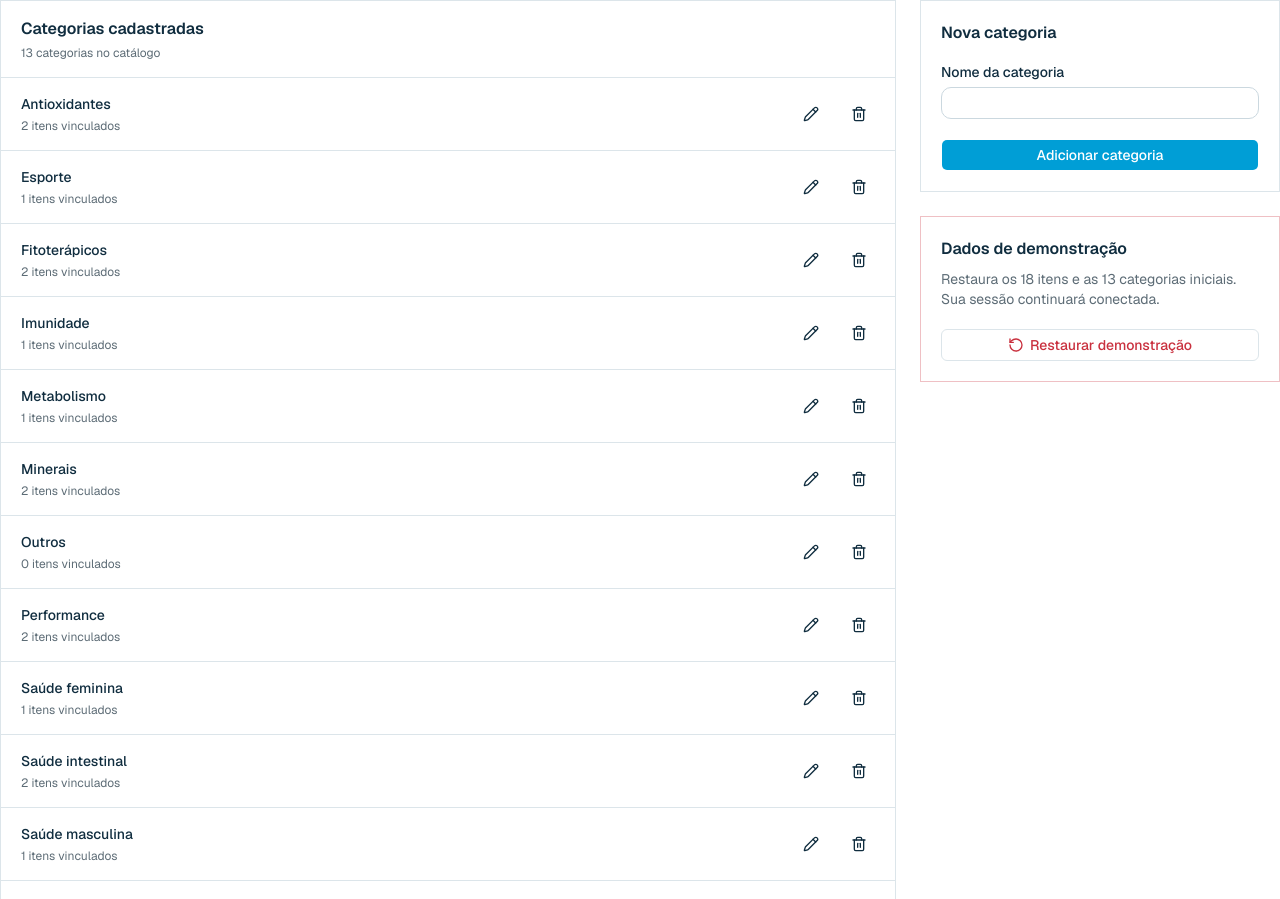
Test: CategoryAdminContent › creates a category and adds it to the list
The width and height of the screenshot is (1280, 899).
Expected: the text "Antioxidantes" is shown, top-left (21, 95), bottom-right (111, 113)
Type "Dermocosméticos" into the field labelled "Nome da categoria" at (1100, 103), box top-left (941, 87), bottom-right (1259, 119)
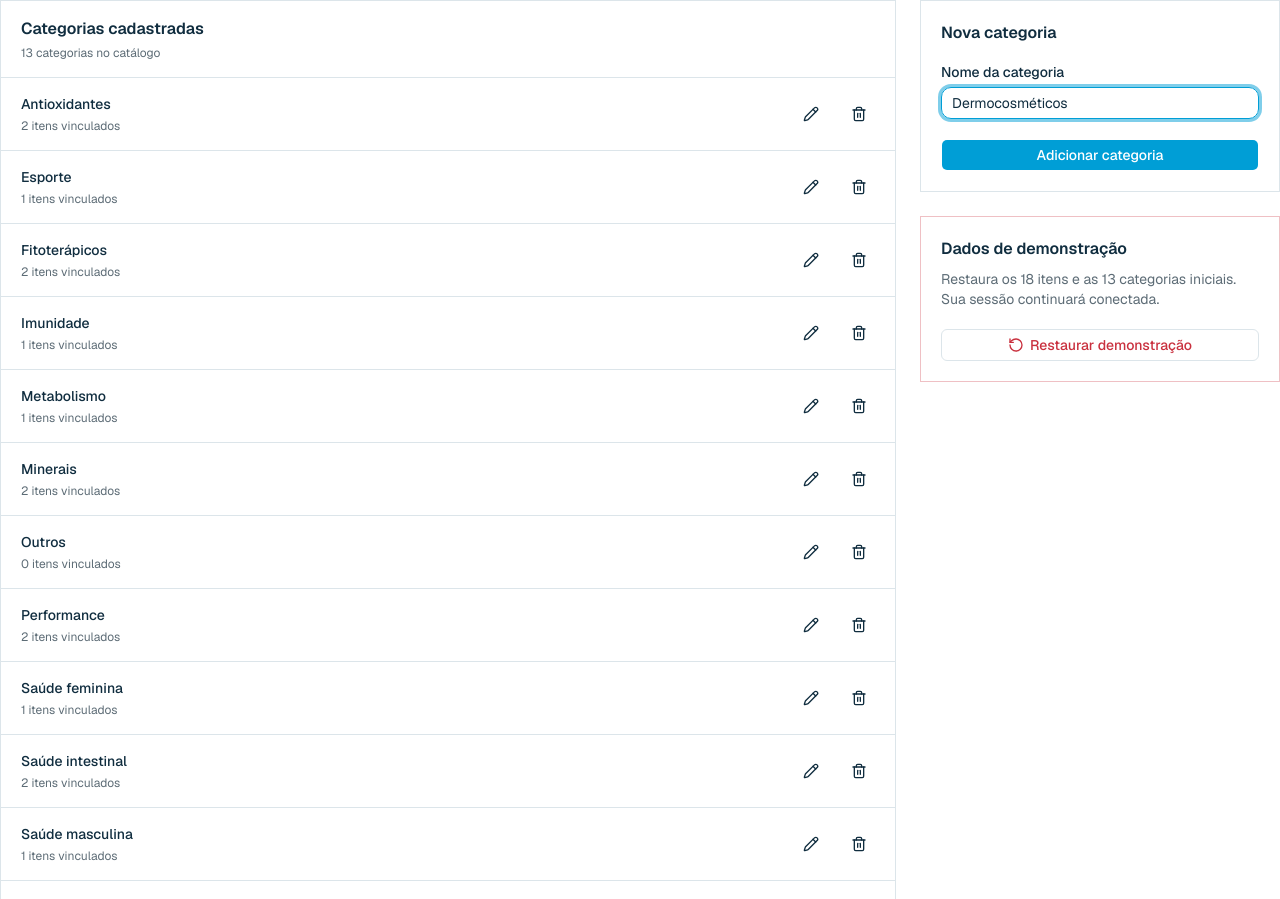
Click the button "Adicionar categoria" at (1100, 155), box top-left (941, 139), bottom-right (1259, 171)
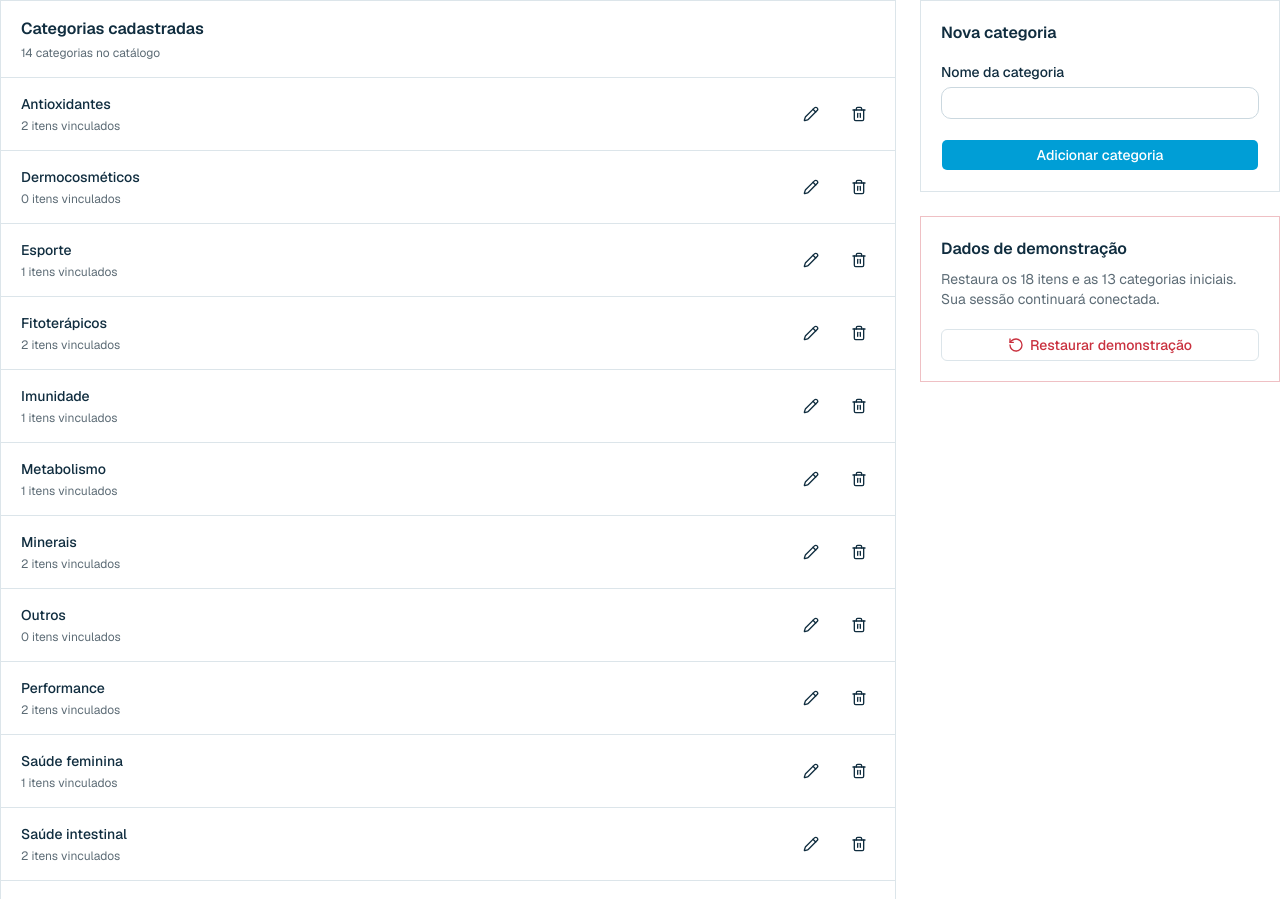
Result: the text "Dermocosméticos" is shown at top-left (21, 168), bottom-right (140, 186)
